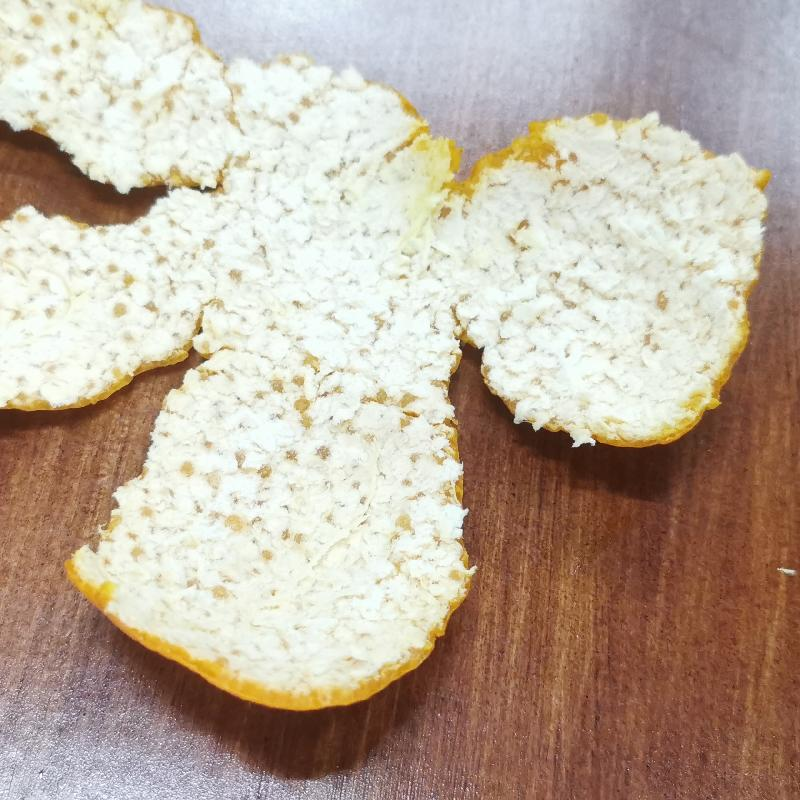orange: (1, 3, 770, 711)
